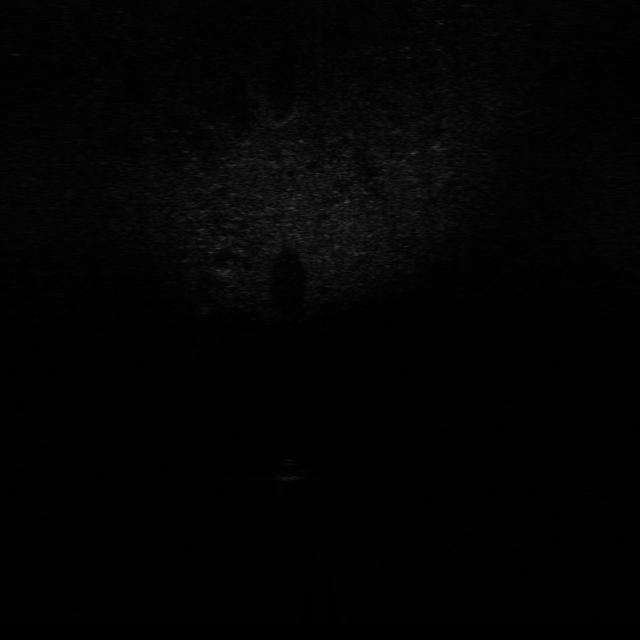ball: (267, 456, 311, 482)
